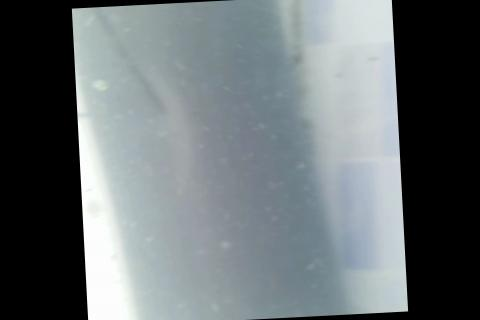keretakan: (72, 3, 176, 122)
